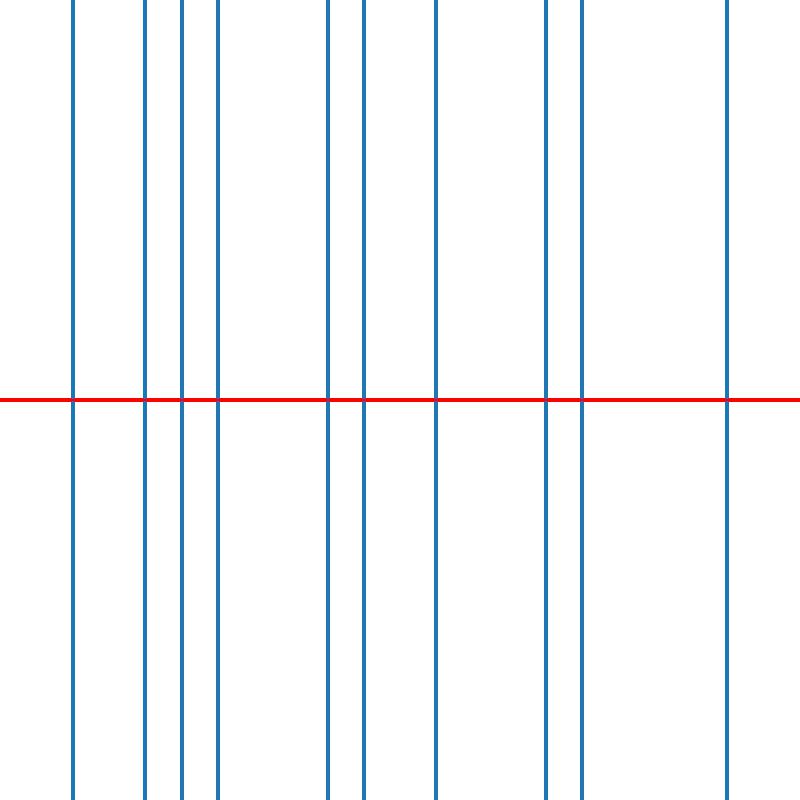root: (141, 396, 149, 404), (541, 396, 549, 404), (432, 396, 440, 404), (578, 396, 585, 404), (214, 396, 221, 404), (69, 396, 76, 404), (323, 396, 330, 404), (178, 396, 185, 404), (723, 396, 730, 404), (360, 396, 367, 404)
